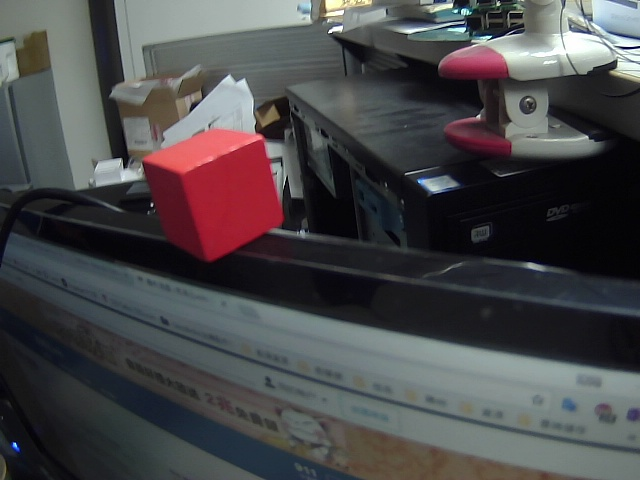redbox: (139, 121, 295, 267)
